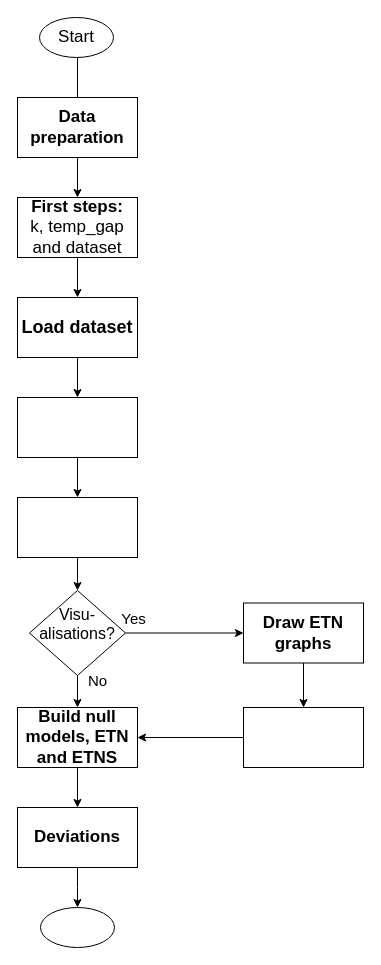
Image size: 381x965. Some labels were removed from this diagram. Here are the shapes that lost their labels. From the top down, the box of each, then its label:
(16, 396, 138, 458): Build graphs
(16, 496, 138, 558): Build ETN, ETNS, count frequencies
(242, 706, 364, 768): Draw Bar chart
(40, 906, 114, 948): End
